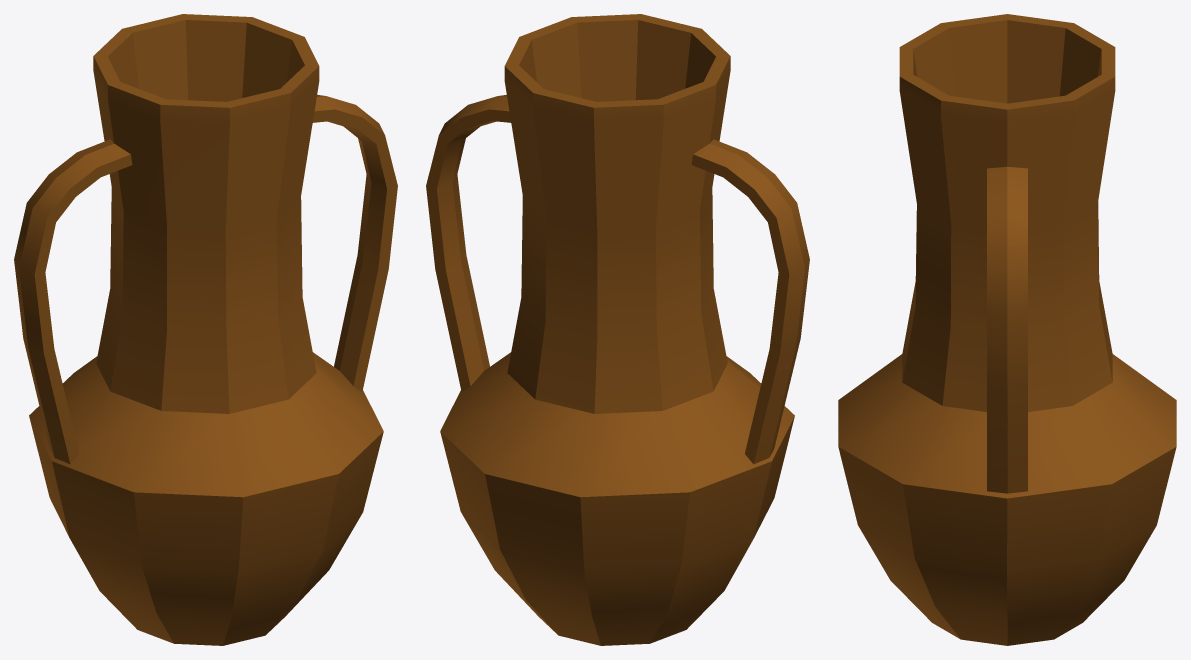
The model's file is SM_pottery_022.fbx.
3 renders of one model, left to right at view 1: azimuth 30°, elevation 25°; view 2: azimuth 150°, elevation 25°; view 3: azimuth 270°, elevation 25°, orthographic.
Visible parts, largest first — view 1: Line011; view 2: Line011; view 3: Line011.
Part boxes in pixels (x1,y1,x2,y2): Line011: (14, 14, 397, 645); Line011: (426, 14, 809, 645); Line011: (838, 14, 1176, 645).
Size of the model in its own units: 20.39 by 16.02 by 28.76.
